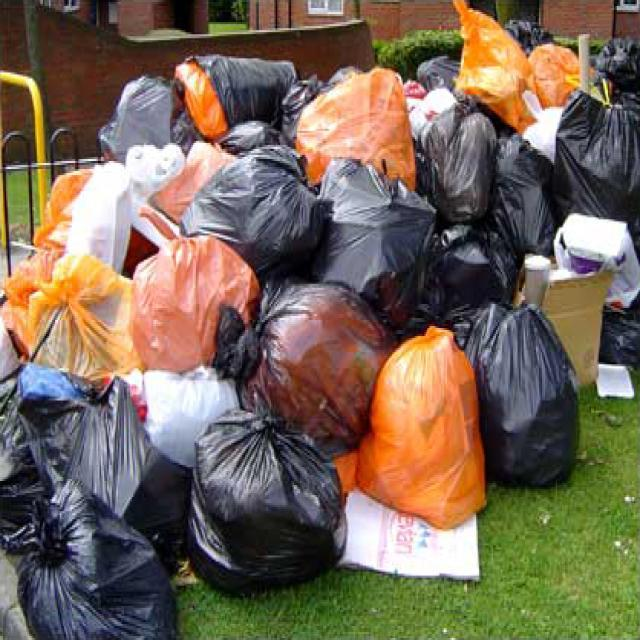Trashbag: (184, 410, 344, 603), (20, 493, 172, 640), (469, 318, 584, 484), (317, 151, 431, 318), (180, 144, 319, 264), (67, 379, 188, 506), (409, 215, 520, 324), (546, 93, 640, 219), (177, 46, 304, 131), (480, 130, 564, 250), (101, 65, 198, 166), (409, 108, 490, 201)
